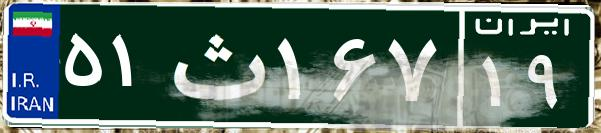1: (273, 28, 330, 110), (475, 38, 525, 113), (110, 28, 158, 105)
5: (57, 26, 110, 107)
6: (330, 28, 385, 110)
7: (385, 28, 445, 110)
9: (525, 38, 570, 115)
ث: (158, 15, 273, 115)
